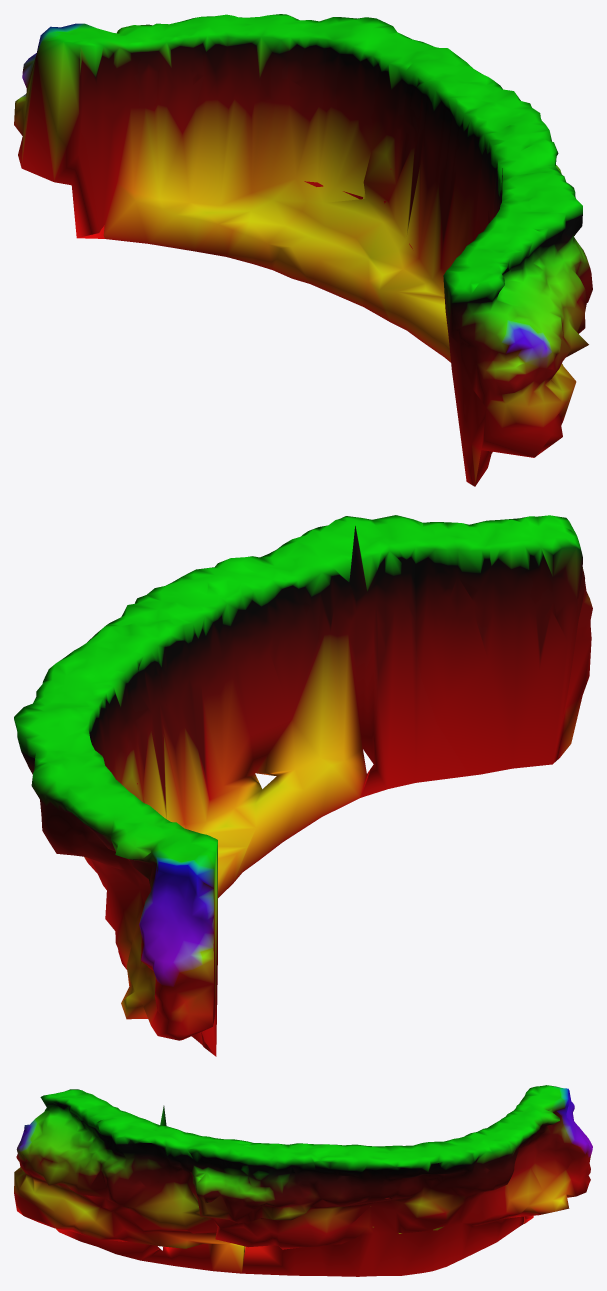
Rendered from desert-large-a.glb.
The picture shows the model from 3 angles, top to bottom: view 1: azimuth 30°, elevation 25°; view 2: azimuth 150°, elevation 25°; view 3: azimuth 270°, elevation 25°; orthographic projection. The views are drawn at different scales.
Visible parts, largest first — view 1: desert-large-a_lod0; view 2: desert-large-a_lod0; view 3: desert-large-a_lod0.
Boxes of the visible parts, left/top/right/bottom form: desert-large-a_lod0: left=14, top=14, right=592, bottom=486; desert-large-a_lod0: left=14, top=515, right=592, bottom=1056; desert-large-a_lod0: left=14, top=1085, right=592, bottom=1276.
Size of what is drawn, in the model's own units: 6.35 by 4.91 by 15.85.
